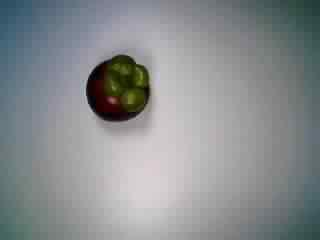mangosteen: (80, 50, 161, 125)
